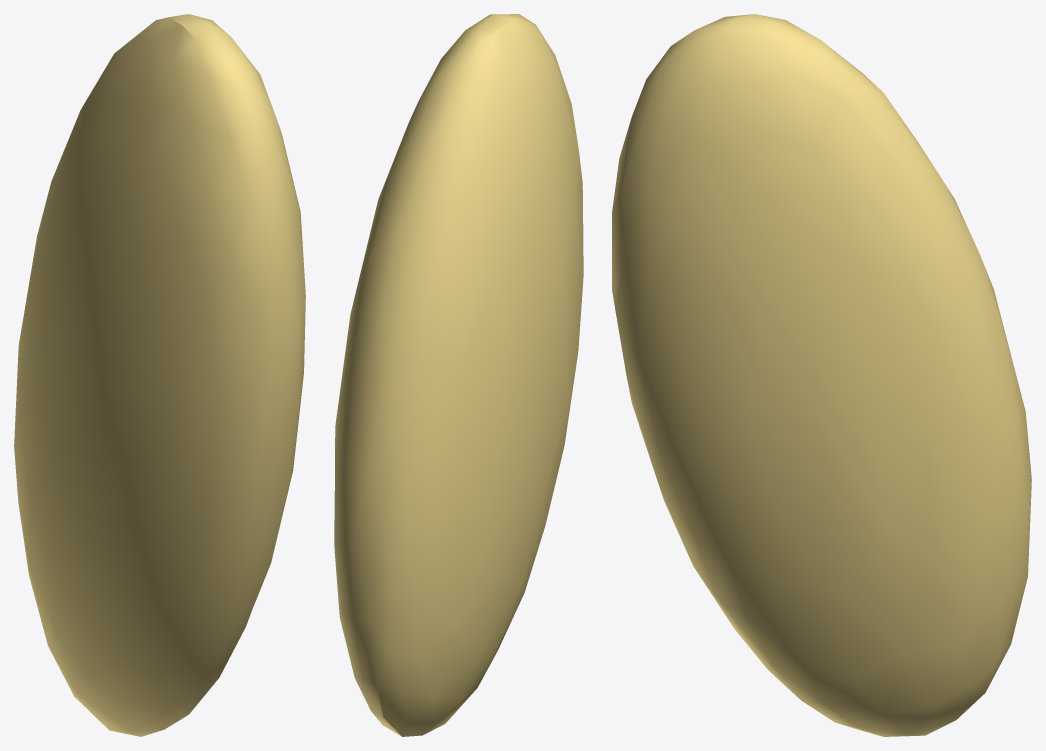
Rendered from fma72585_mm2697.glb.
3 views of the same model, side by side, from view 1: azimuth 30°, elevation 25°; view 2: azimuth 150°, elevation 25°; view 3: azimuth 270°, elevation 25° (orthographic). The views are drawn at different scales.
Visible parts, largest first — view 1: FMA72585_MM2697; view 2: FMA72585_MM2697; view 3: FMA72585_MM2697.
Boxes of the visible parts, bbox=[...] form: FMA72585_MM2697: bbox=[14, 14, 305, 736]; FMA72585_MM2697: bbox=[334, 14, 583, 736]; FMA72585_MM2697: bbox=[612, 14, 1031, 736].
Size of the model in its own units: 0.00117 by 0.00461 by 0.00245.
